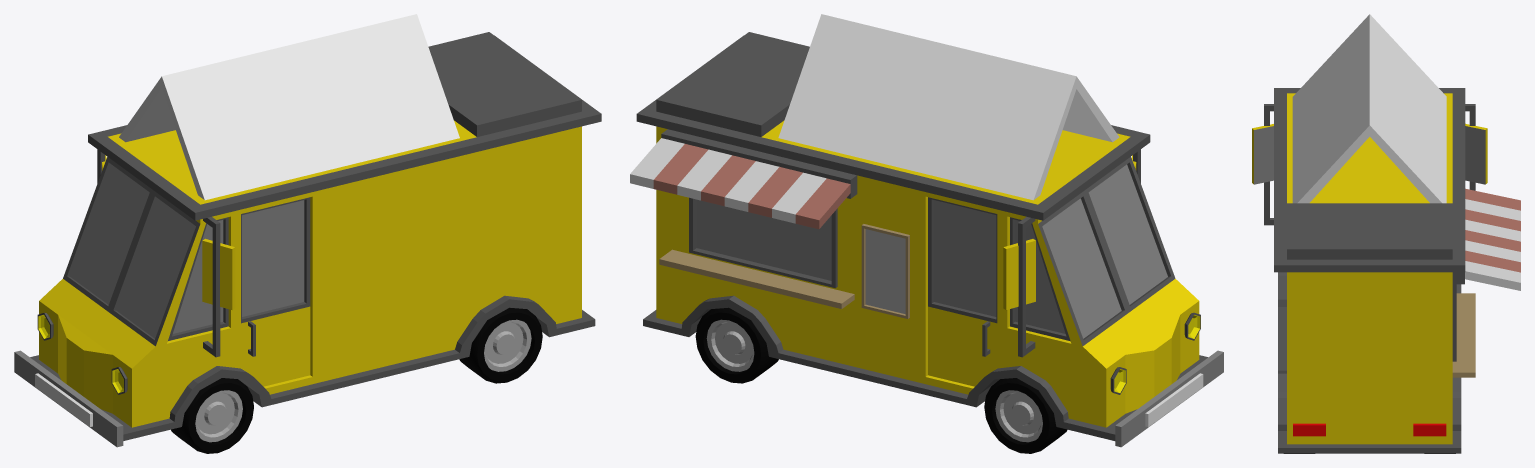
Rendered from foodtruck 1.fbx.
3 views of the same model, side by side, from view 1: azimuth 30°, elevation 25°; view 2: azimuth 150°, elevation 25°; view 3: azimuth 270°, elevation 25° (orthographic). The views are drawn at different scales.
Visible parts, largest first — view 1: pCube13; view 2: pCube13; view 3: pCube13.
Boxes of the visible parts, x1,y1,x2,y2 form: pCube13: (14,14,601,453); pCube13: (630,14,1223,453); pCube13: (1252,14,1520,453).
Bounding box in the file's own units: 310 × 210 × 167.
